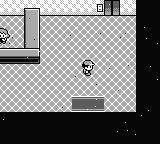leer: (97, 2, 103, 13)
main: (82, 60, 95, 76)
no-caminable: (1, 0, 160, 143), (1, 0, 97, 16), (24, 8, 40, 48), (1, 49, 39, 63), (120, 0, 136, 16)
npc: (0, 28, 10, 44)
puerta: (70, 97, 107, 112), (104, 0, 120, 15)
